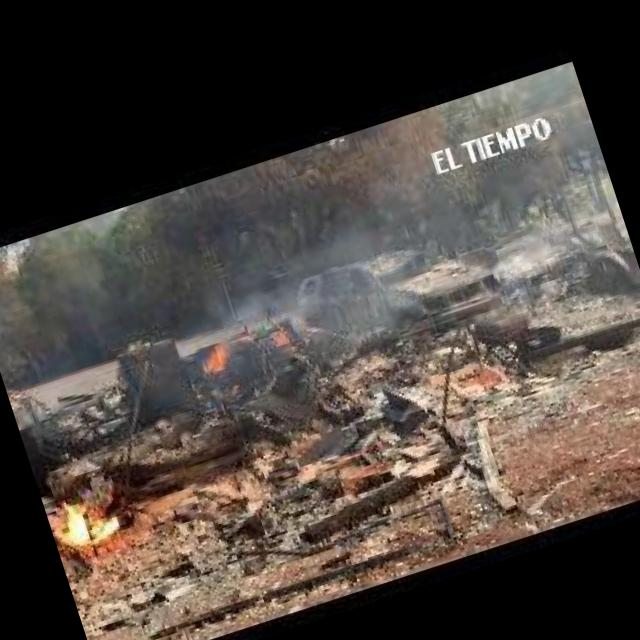fire: (44, 484, 121, 550), (201, 344, 231, 372), (270, 327, 288, 347), (226, 383, 240, 396)
smoke: (185, 210, 392, 346)
